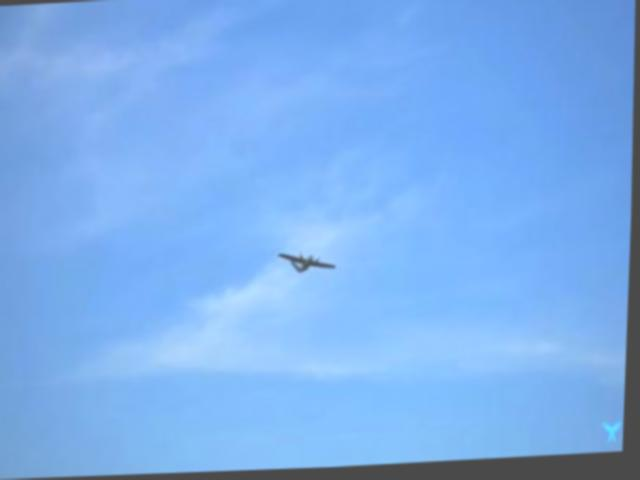uav: (271, 240, 346, 291)
